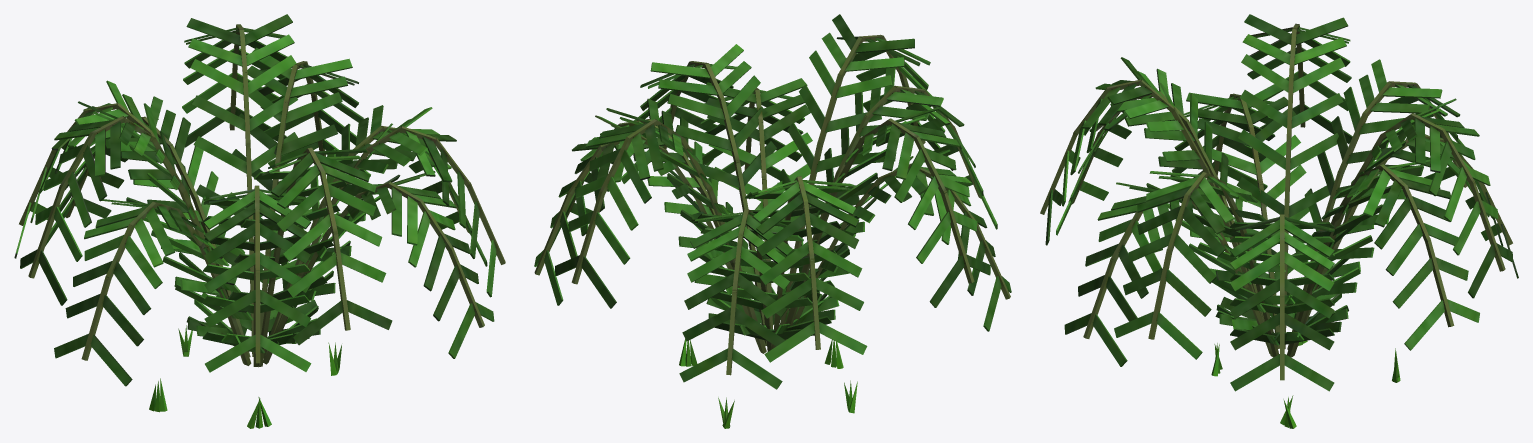
File: salak_tree.glb
3 renders of one model, left to right at view 1: azimuth 30°, elevation 25°; view 2: azimuth 150°, elevation 25°; view 3: azimuth 270°, elevation 25°, orthographic. The views are drawn at different scales.
Parts seen in each view (by area): view 1: crown, salak_tree; view 2: crown, salak_tree; view 3: crown, salak_tree.
Boxes of the visible parts, x1=… form: crown: x1=14, y1=14, x2=505, y2=386; salak_tree: x1=149, y1=325, x2=341, y2=428; crown: x1=534, y1=14, x2=1011, y2=389; salak_tree: x1=679, y1=339, x2=857, y2=428; crown: x1=1040, y1=14, x2=1518, y2=391; salak_tree: x1=1211, y1=340, x2=1400, y2=428.
Size of the model in its own units: 1.31 by 0.8909 by 1.29.
Materials: 1 (1 with a texture image).
